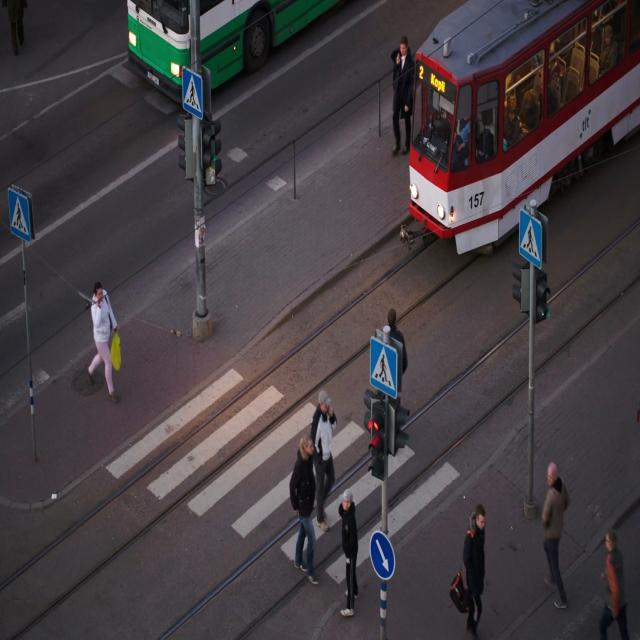pedestrian: (290, 433, 318, 584), (542, 462, 569, 607), (88, 281, 118, 402), (312, 390, 337, 530), (463, 504, 485, 638), (339, 489, 358, 616)
